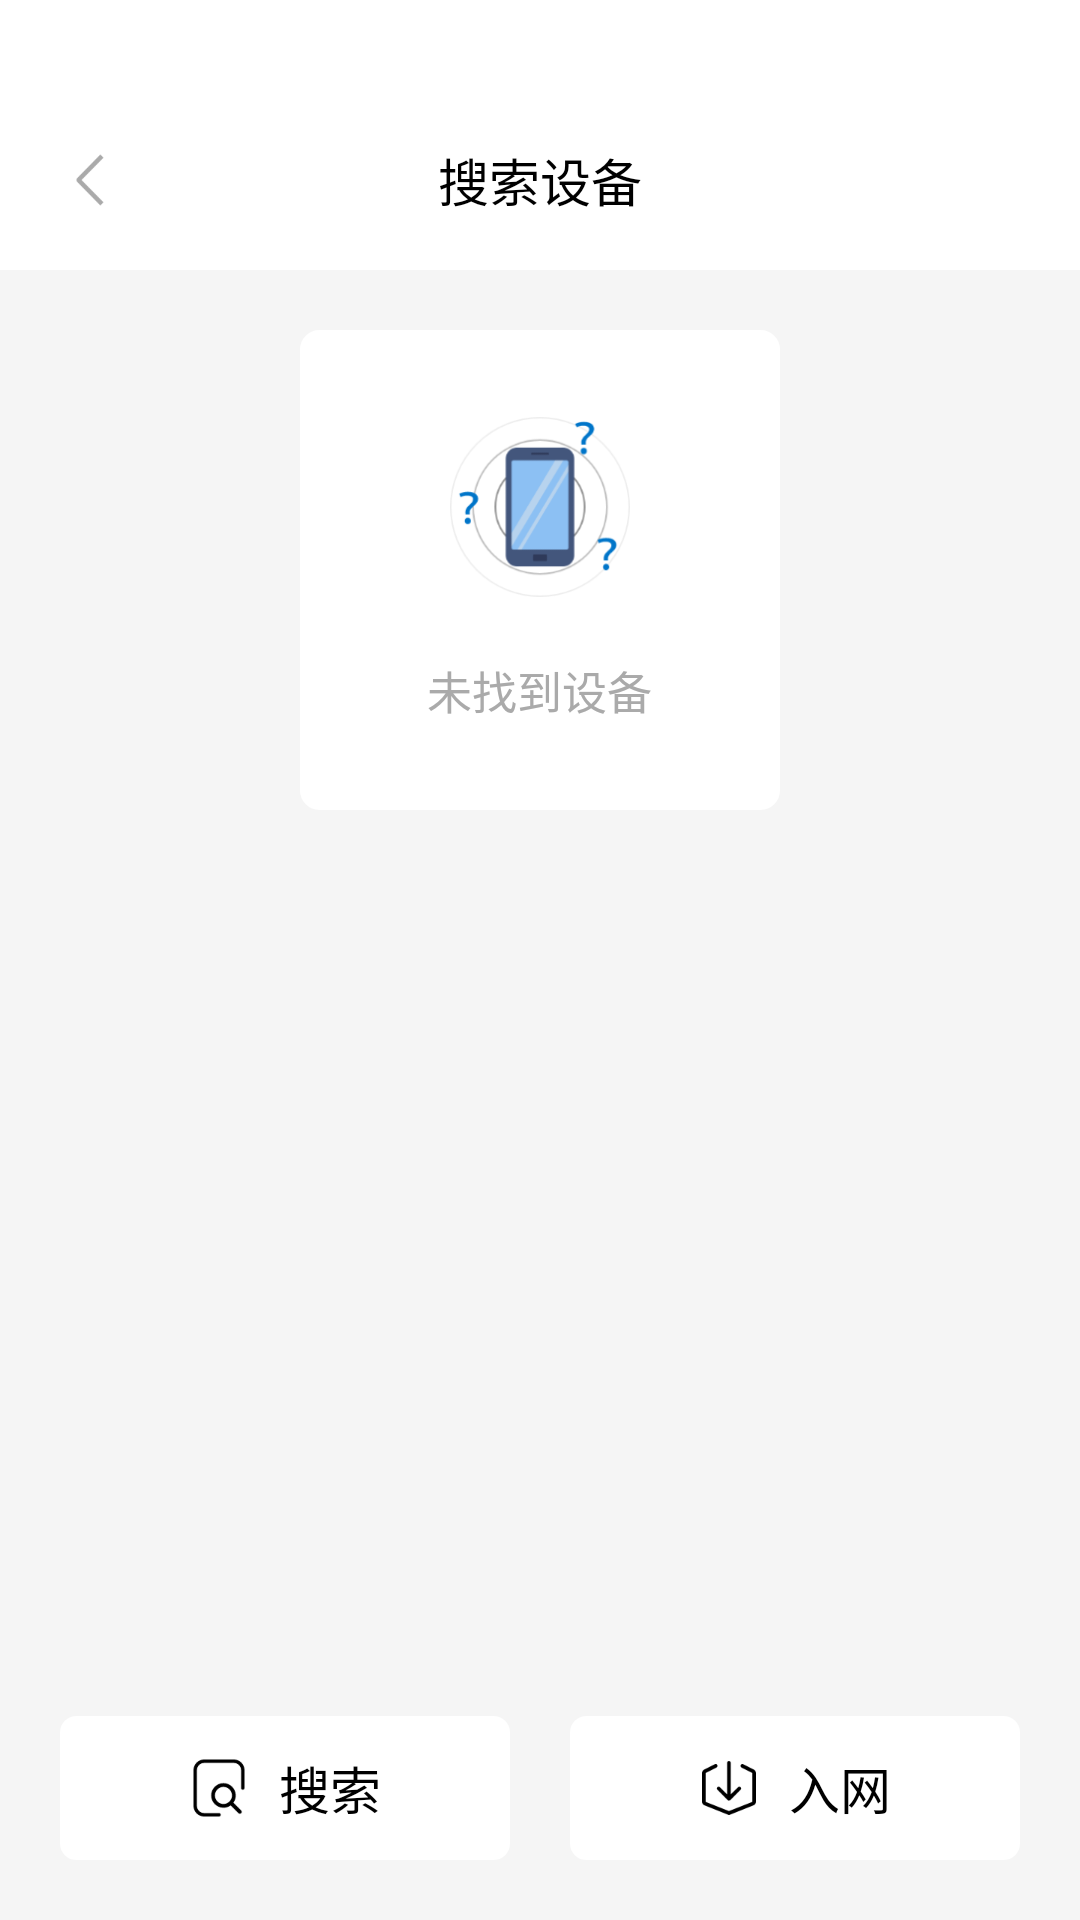

Point at icon controls on the screen. Image size 1080 × 1920, points as point (x, y).
back: point (89, 180)
devnotfound: point (538, 498)
search: point (219, 1788)
